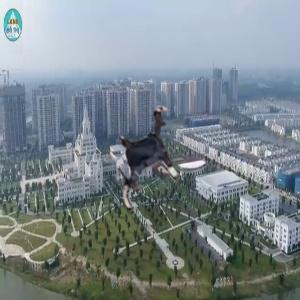drone: (94, 104, 201, 211)
